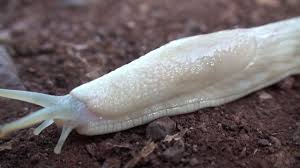slug: (1, 19, 300, 148)
